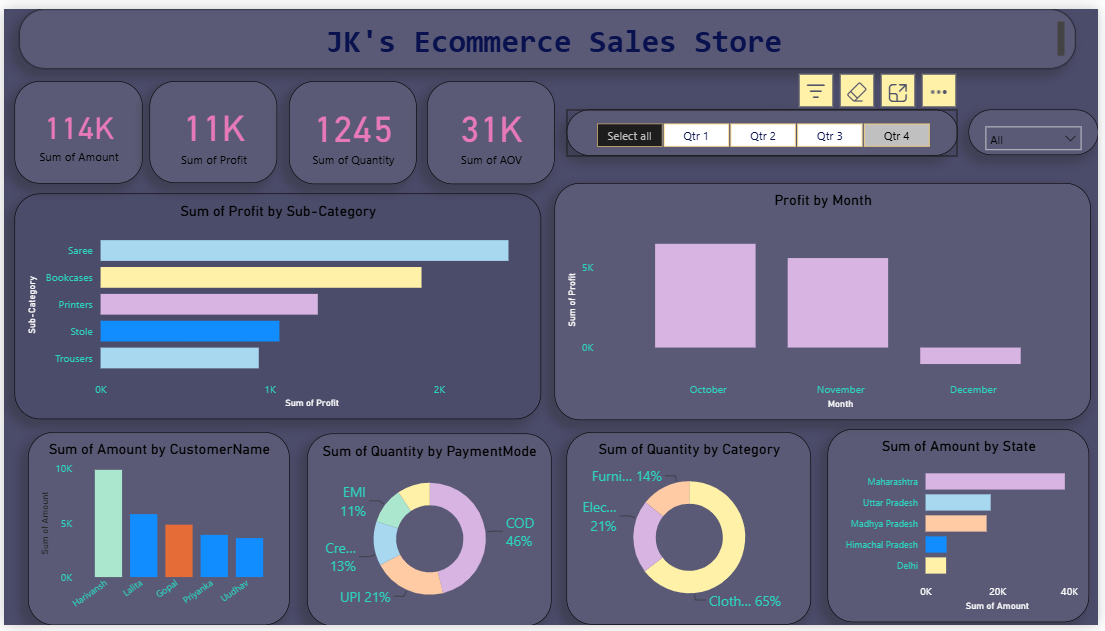

Layout of this report page (visuals, bound fields, positions):
{"tool":"powerbi","page":{"name":"Page 1","canvas":[1280,720],"ordinal":0},"visuals":[{"type":"textbox","box":[18,0,1236,70],"z":0},{"type":"columnChart","title":"Profit by Month","fields":{"Category":["Orders.Order Date.Variation.Date Hierarchy.Month"],"Y":["Sum(Details.Profit)"]},"box":[644,204,627.1,277.1],"z":1000},{"type":"barChart","fields":{"Category":["Details.Sub-Category"],"Y":["Sum(Details.Profit)"]},"box":[12.9,215.7,615.7,264.3],"z":2000},{"type":"donutChart","fields":{"Category":["Details.Category"],"Y":["Sum(Details.Quantity)"]},"box":[657.1,494.3,285.8,225.5],"z":3000},{"type":"donutChart","fields":{"Category":["Details.PaymentMode"],"Y":["Sum(Details.Quantity)"]},"box":[354.3,495.7,285.8,225.5],"z":4000},{"type":"card","fields":{"Values":["Sum(Details.Amount)"]},"box":[12,84,150,120],"z":5000},{"type":"card","fields":{"Values":["Sum(Details.Profit)"]},"box":[170,84,149.5,119.4],"z":6000},{"type":"card","fields":{"Values":["Sum(Details.AOV)"]},"box":[494,84,149.5,120.6],"z":7000},{"type":"card","fields":{"Values":["Sum(Details.Quantity)"]},"box":[334,84,149.5,120.6],"z":8000},{"type":"barChart","fields":{"Category":["Orders.State"],"Y":["Sum(Details.Amount)"]},"box":[964,492,306,226],"z":9000},{"type":"columnChart","fields":{"Category":["Orders.CustomerName"],"Y":["Sum(Details.Amount)"]},"box":[28,494,306,226],"z":10000},{"type":"slicer","fields":{"Values":["Orders.Order Date.Variation.Date Hierarchy.Quarter"]},"box":[657.1,117.1,458,54],"z":11000},{"type":"slicer","fields":{"Values":["Orders.City"]},"box":[1128.6,117.1,151.7,53.3],"z":12000}]}

Visuals, with their boxes in screenshot pixels (x1, y1, x2, y2), scaled from the page's 1280x720 canvas onto the 1105x631 screenshot:
textbox: Rect(16, 0, 1083, 61)
"Profit by Month" columnChart: Rect(556, 179, 1097, 422)
barChart - Details.Sub-Category x Sum(Details.Profit): Rect(11, 189, 543, 421)
donutChart - Details.Category x Sum(Details.Quantity): Rect(567, 433, 814, 630)
donutChart - Details.PaymentMode x Sum(Details.Quantity): Rect(306, 434, 553, 630)
card - Sum(Details.Amount): Rect(10, 74, 140, 179)
card - Sum(Details.Profit): Rect(147, 74, 276, 178)
card - Sum(Details.AOV): Rect(426, 74, 556, 179)
card - Sum(Details.Quantity): Rect(288, 74, 417, 179)
barChart - Orders.State x Sum(Details.Amount): Rect(832, 431, 1096, 629)
columnChart - Orders.CustomerName x Sum(Details.Amount): Rect(24, 433, 288, 630)
slicer - Orders.Order Date.Variation.Date Hierarchy.Quarter: Rect(567, 103, 963, 150)
slicer - Orders.City: Rect(974, 103, 1104, 149)
